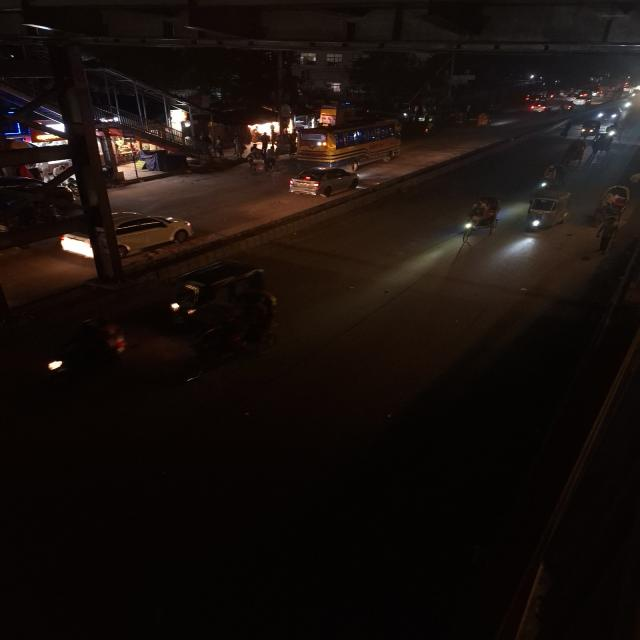bus: (290, 119, 407, 165)
car: (54, 210, 201, 266), (284, 164, 364, 198), (574, 96, 590, 106)
cng: (522, 188, 574, 234), (576, 119, 602, 139)
pedestrian: (562, 118, 573, 140)
rickshaw: (452, 194, 506, 248), (589, 182, 632, 247), (245, 150, 282, 176), (536, 162, 566, 188), (589, 134, 617, 159), (605, 122, 621, 140)
